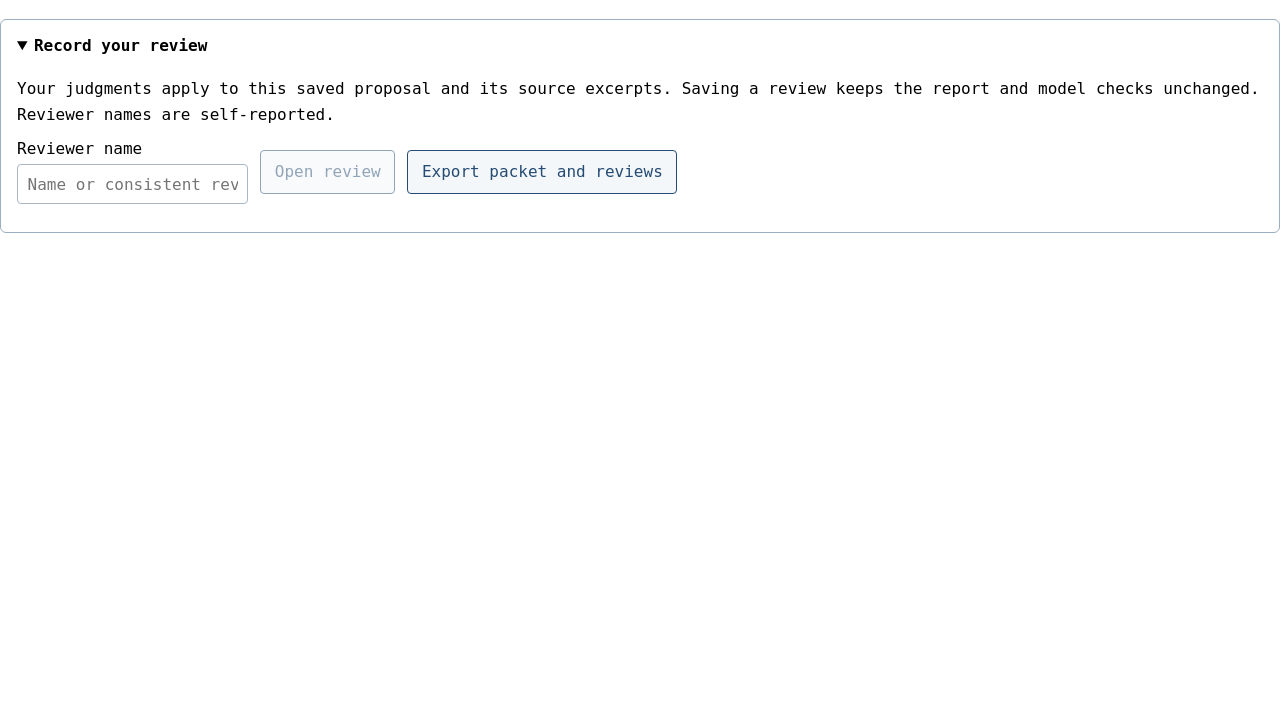
human claim review › starts timing only explicitly and pauses when the window loses focus
Type "Synthetic reviewer" into the field labelled "Reviewer name" at (133, 184), box [17,164,248,204]
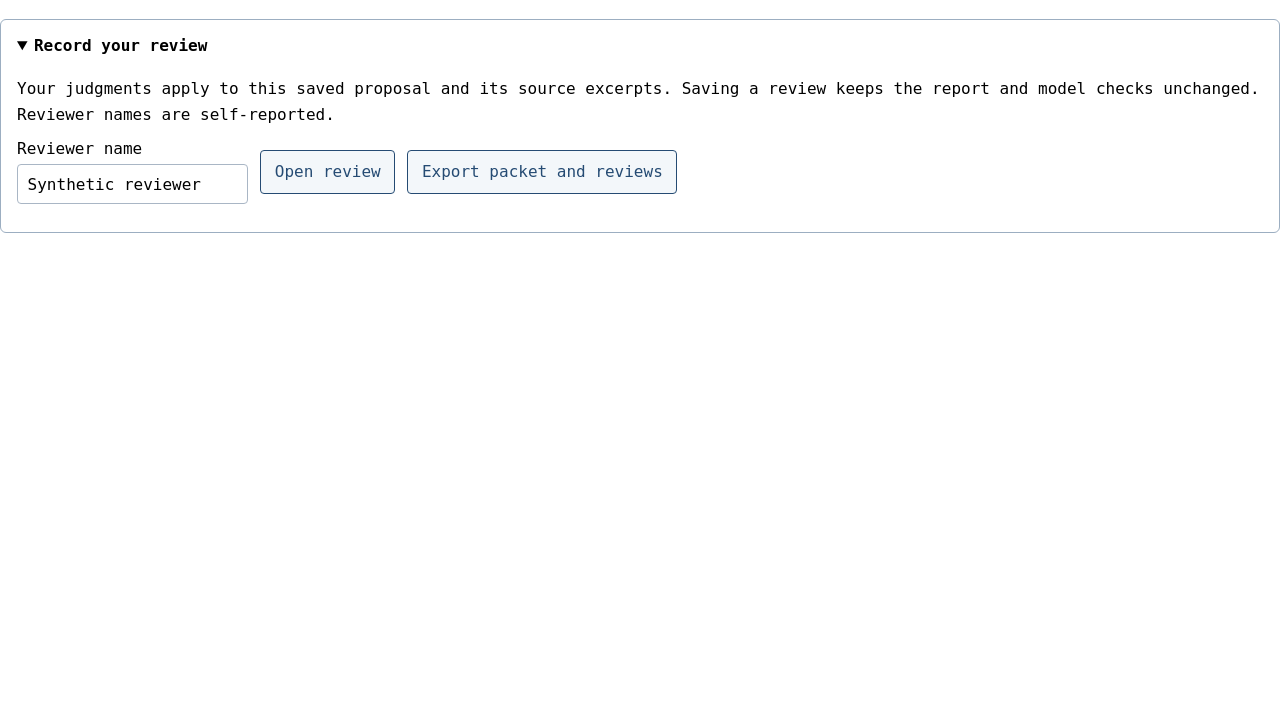
Click the button "Open review" at (328, 172), box [260,150,395,194]
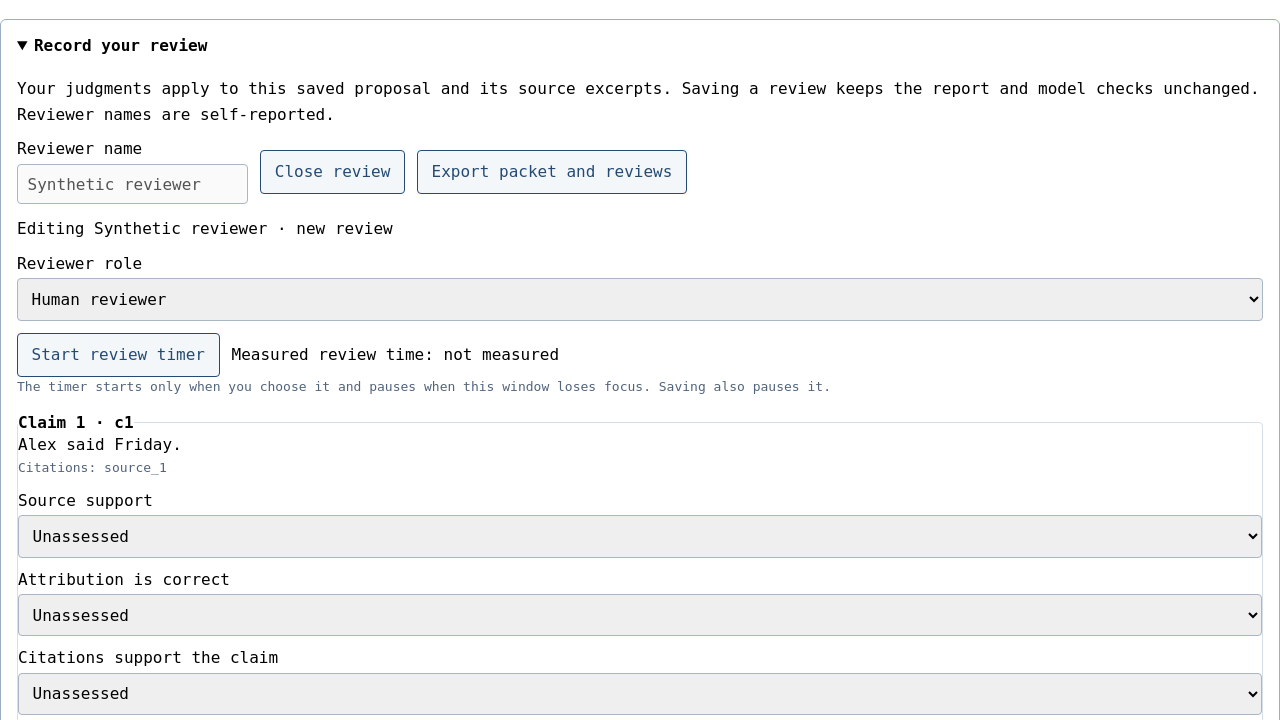
Click the button "Start review timer" at (118, 354), box [17,332,220,376]
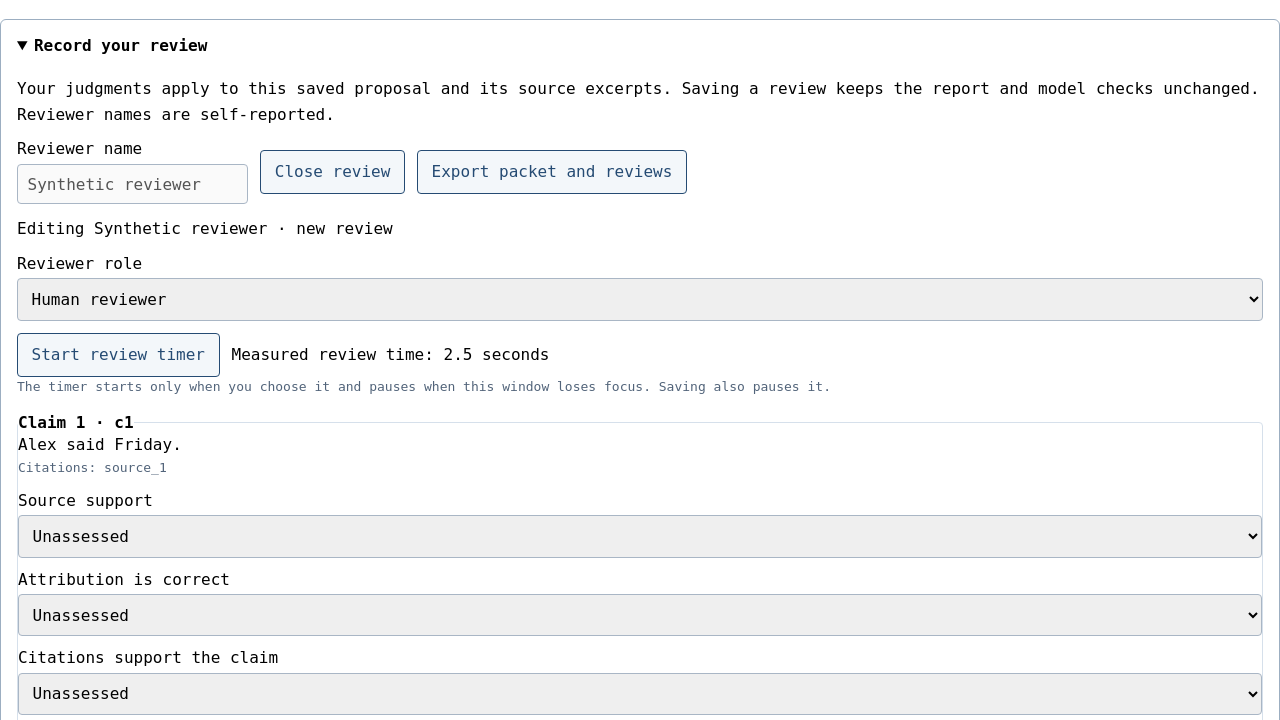
Expected: the button "Start review timer" is shown, [17,332,220,376]
Expected: the text "2.5 seconds" is shown, [232,345,550,364]
